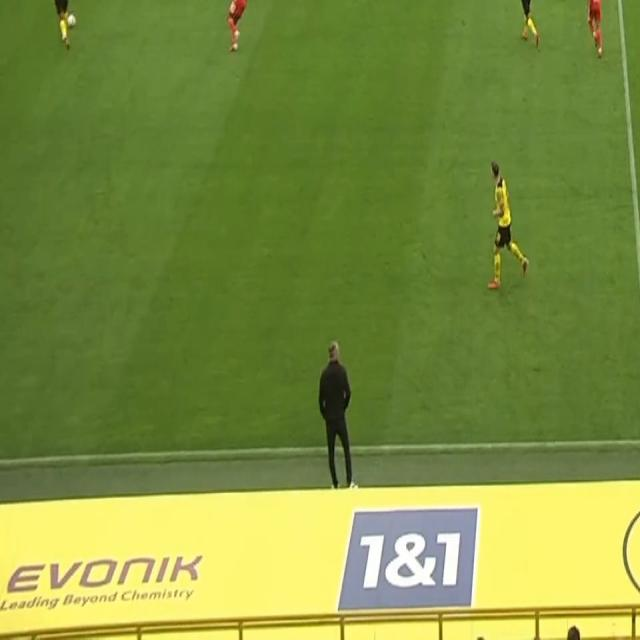ball: (66, 11, 78, 29)
